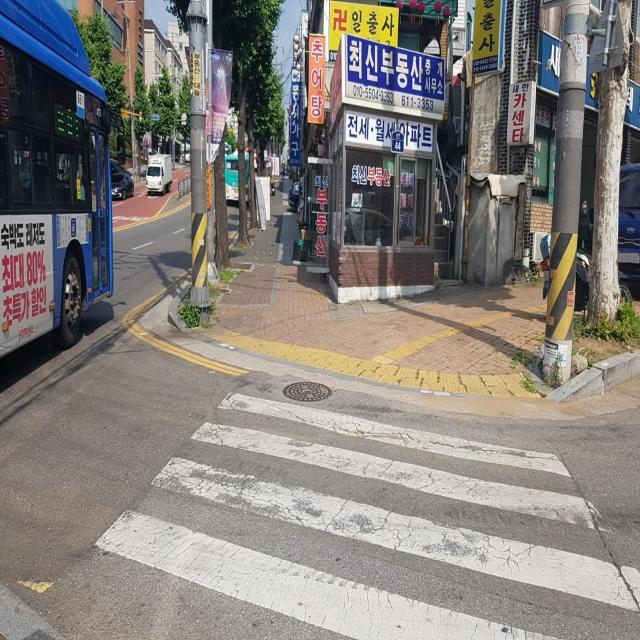횡단보도: (89, 386, 640, 640)
